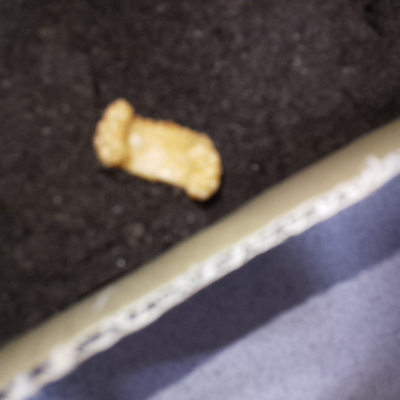eggs: (83, 89, 231, 210)
